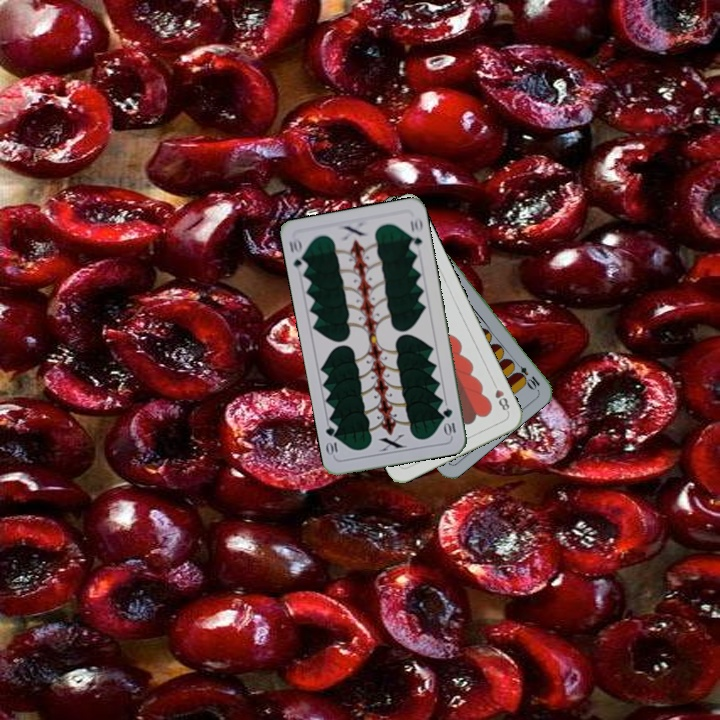E10: (509, 357, 542, 392)
G10: (285, 234, 310, 275), (439, 404, 458, 438)
H8: (488, 377, 512, 415)
